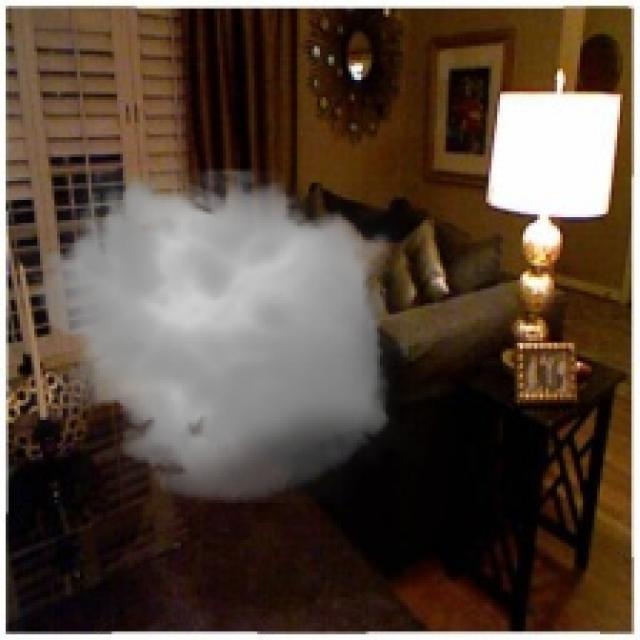Smoke: (22, 155, 408, 514)
